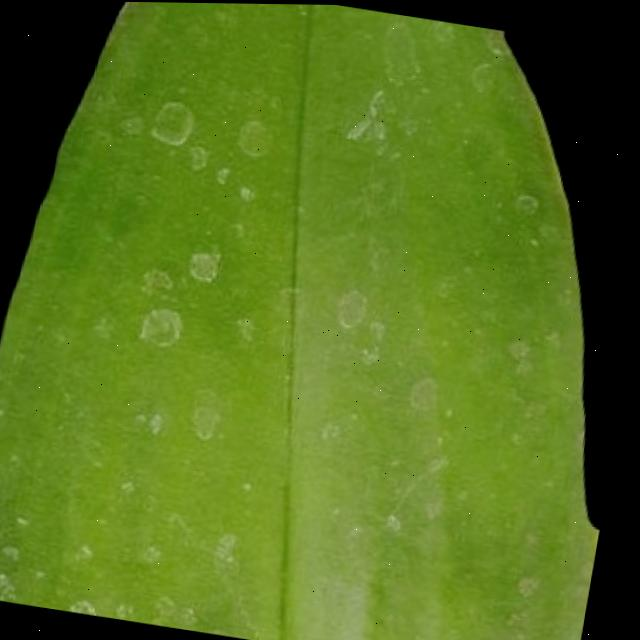mite: (102, 87, 279, 364), (146, 92, 199, 148), (136, 300, 188, 348), (232, 112, 277, 158), (504, 178, 551, 221), (184, 242, 225, 282), (511, 185, 543, 216), (67, 592, 107, 616), (495, 634, 518, 640)
spots: (0, 1, 639, 640)
